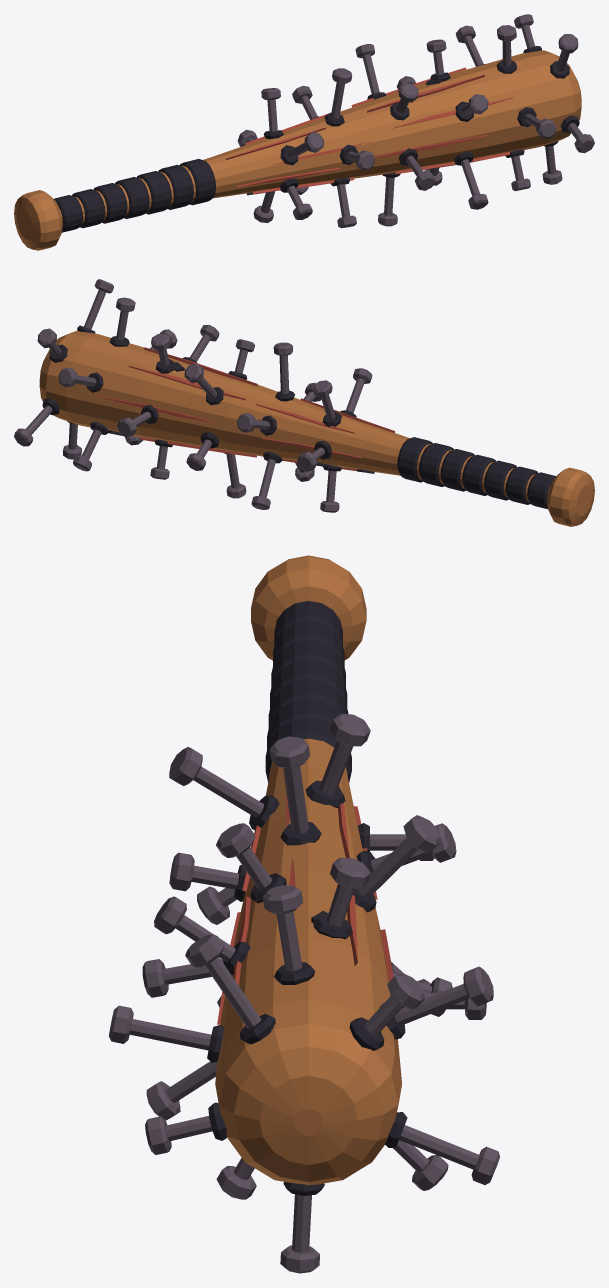
File: wpn.nail-bat.glb
3 views of the same model, one above another, from view 1: azimuth 30°, elevation 25°; view 2: azimuth 150°, elevation 25°; view 3: azimuth 270°, elevation 25° (orthographic). The views are drawn at different scales.
Bounding box in the file's own units: 1 × 0.2997 × 0.3183.
